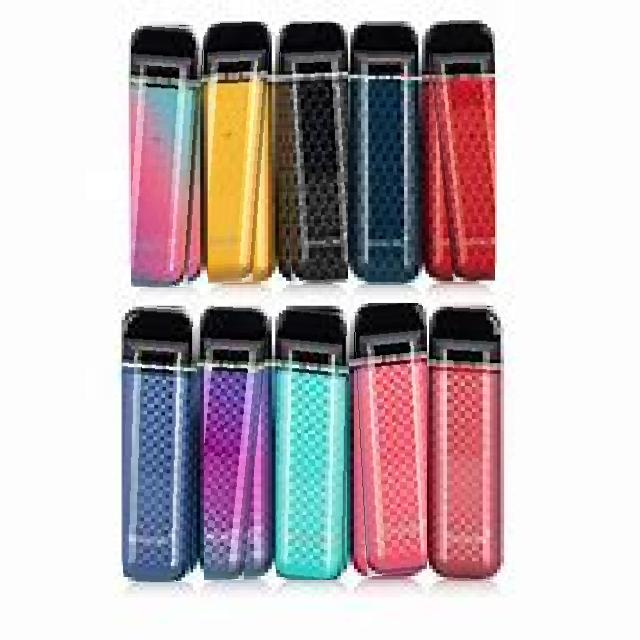Vapes: (427, 303, 505, 581), (123, 304, 199, 582), (353, 304, 428, 578), (276, 306, 350, 580), (131, 22, 205, 287), (350, 21, 422, 285), (204, 302, 270, 580), (278, 23, 348, 285), (426, 20, 495, 282), (208, 22, 272, 286)
